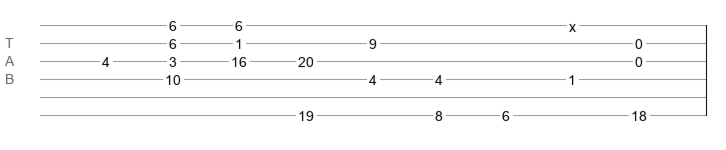0: (635, 36, 643, 46), (635, 54, 643, 64)
1: (235, 36, 243, 46), (568, 72, 576, 82)
10: (165, 72, 181, 82)
16: (231, 54, 247, 64)
18: (631, 108, 647, 118)
19: (298, 108, 314, 118)
20: (298, 54, 314, 64)
3: (169, 54, 177, 64)
4: (102, 54, 110, 64), (369, 72, 377, 82), (435, 72, 443, 82)
6: (169, 18, 177, 28), (169, 36, 177, 46), (235, 18, 243, 28), (502, 108, 510, 118)
8: (435, 108, 443, 118)
9: (369, 36, 377, 46)
x: (569, 19, 576, 27)
